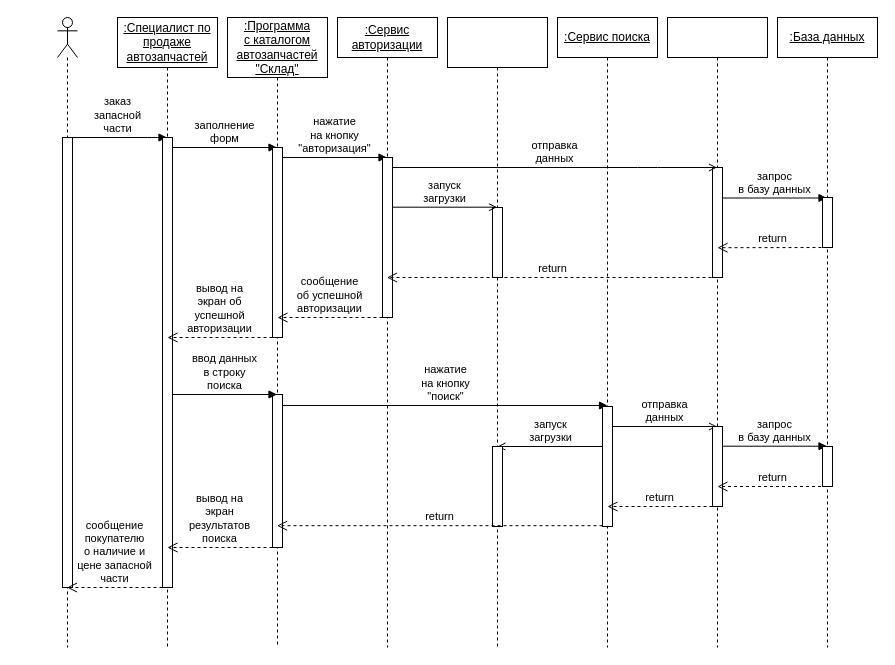
Some shapes in this 895 by 665 pixel diagram are drawn without their labels. Each missing label, with the box of its shape:
:Сервер баз данных: (666, 16, 768, 648)
:Сервис имитации загрузки: (446, 16, 548, 648)
Автовладелец: (56, 16, 78, 648)
